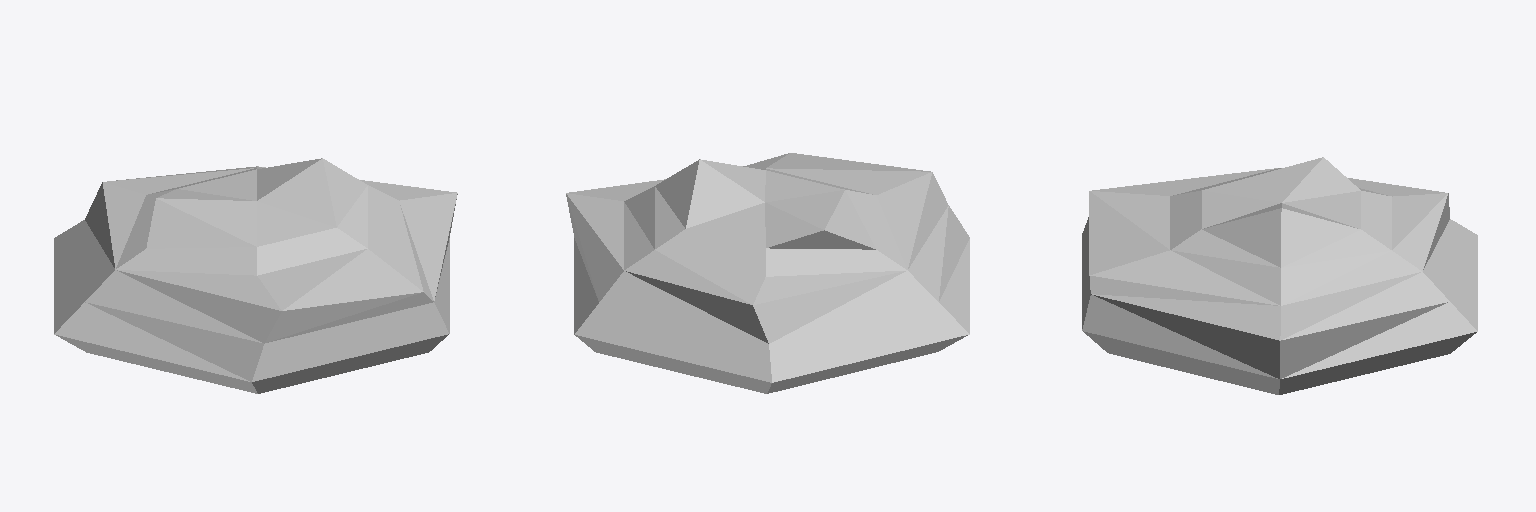
The model's file is HoneyTowerProjectile3.obj.
The picture shows the model from 3 angles: view 1: azimuth 30°, elevation 25°; view 2: azimuth 150°, elevation 25°; view 3: azimuth 270°, elevation 25°; orthographic projection.
Parts seen in each view (by area): view 1: HoneyProjectile; view 2: HoneyProjectile; view 3: HoneyProjectile.
Part boxes in pixels (x1,y1,x2,y2): HoneyProjectile: (54, 158, 457, 393); HoneyProjectile: (566, 153, 969, 393); HoneyProjectile: (1082, 157, 1477, 394).
Size of the model in its own units: 1.72 by 0.6581 by 1.46.